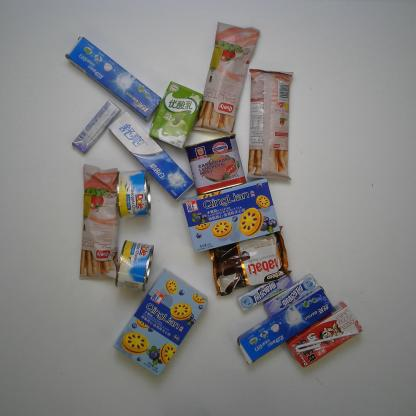Candy: (70, 99, 123, 156), (263, 273, 322, 319), (237, 272, 295, 314)
Canned Food: (182, 130, 248, 198), (110, 235, 157, 297), (113, 165, 156, 219)
Dessert: (112, 266, 210, 378), (192, 18, 262, 139), (180, 174, 283, 256), (204, 224, 294, 300), (243, 62, 294, 183), (76, 161, 122, 283)
Milk: (285, 300, 365, 370), (144, 77, 206, 150)
Personal Hygiene: (64, 35, 164, 124), (106, 108, 194, 202), (237, 285, 338, 364)
